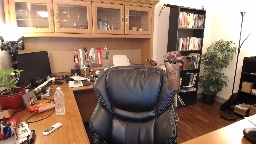Pugno: (161, 50, 185, 71)
